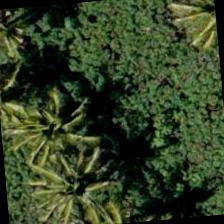Kelapa_Sawit: (0, 79, 97, 178), (26, 128, 125, 223), (0, 5, 52, 77)
